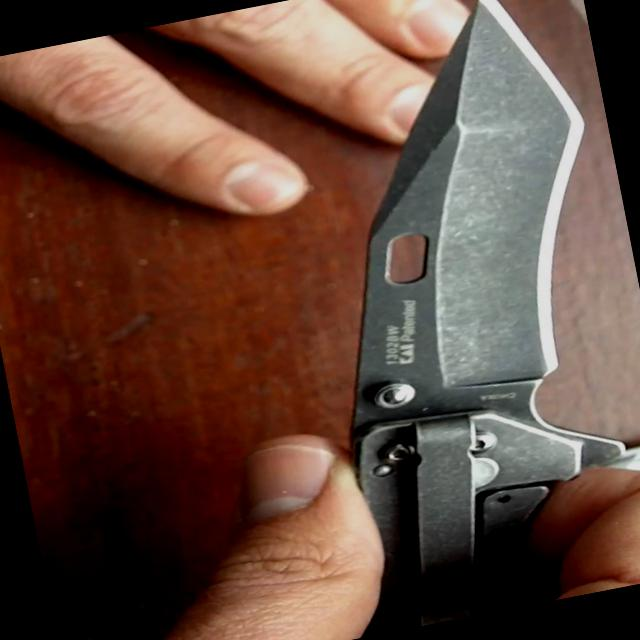knife: (225, 0, 639, 639)
